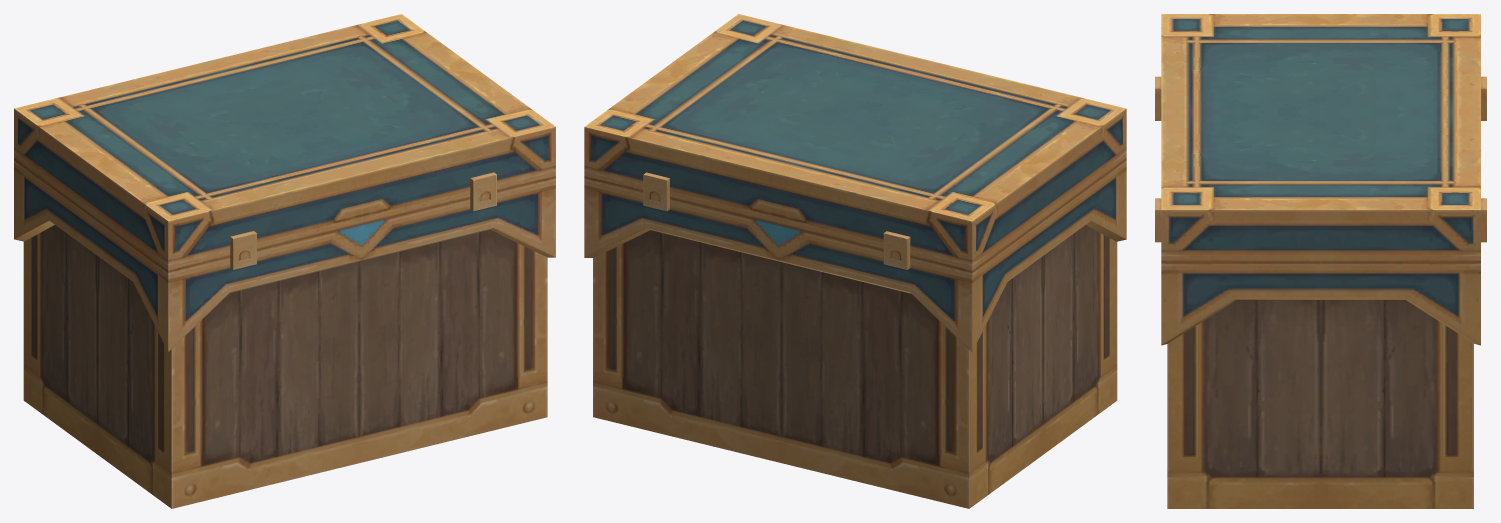
File: Homeworld_Interior_Fd_Decoration_Prop_Xiangzi_02_Vo.fbx
3 renders of one model, left to right at view 1: azimuth 30°, elevation 25°; view 2: azimuth 150°, elevation 25°; view 3: azimuth 270°, elevation 25°, orthographic. The views are drawn at different scales.
Parts seen in each view (by area): view 1: Indoor_Fd_Prop_Hotel_Xiangzi_01_Vo; view 2: Indoor_Fd_Prop_Hotel_Xiangzi_01_Vo; view 3: Indoor_Fd_Prop_Hotel_Xiangzi_01_Vo.
Boxes of the visible parts, <box> form: Indoor_Fd_Prop_Hotel_Xiangzi_01_Vo: <box>14,14,555,508</box>; Indoor_Fd_Prop_Hotel_Xiangzi_01_Vo: <box>584,14,1126,508</box>; Indoor_Fd_Prop_Hotel_Xiangzi_01_Vo: <box>1155,14,1486,508</box>.
Bounding box in the file's own units: 1.44 × 1.03 × 1.03.
1 material, 1 textured.
